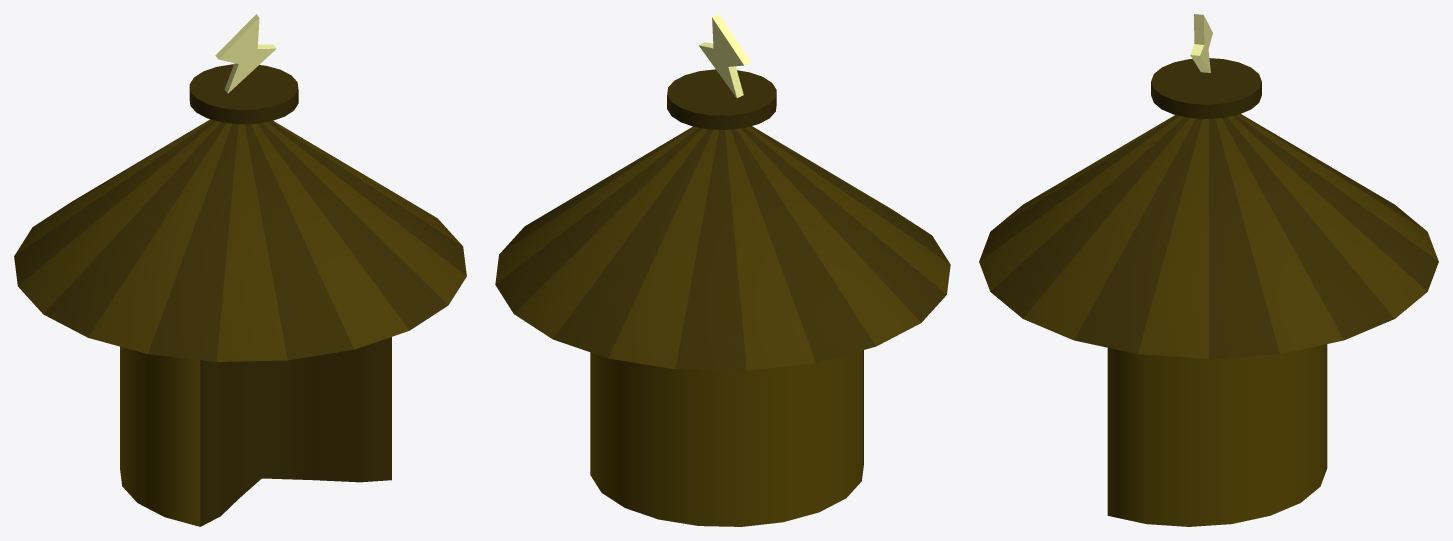
File: hut_V2.fbx
3 views of the same model, side by side, from view 1: azimuth 30°, elevation 25°; view 2: azimuth 150°, elevation 25°; view 3: azimuth 270°, elevation 25° (orthographic).
Parts seen in each view (by area): view 1: Hut_v2; view 2: Hut_v2; view 3: Hut_v2.
Part boxes in pixels (left/top/right/bottom): Hut_v2: left=14, top=14, right=466, bottom=526; Hut_v2: left=495, top=14, right=950, bottom=526; Hut_v2: left=979, top=14, right=1438, bottom=526.
Bounding box in the file's own units: 726 × 796 × 726.
